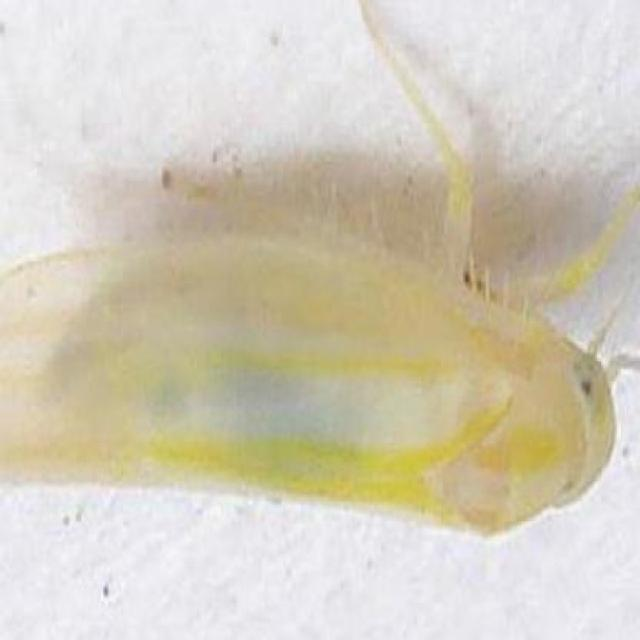green-leafhopper: (2, 205, 613, 533)
